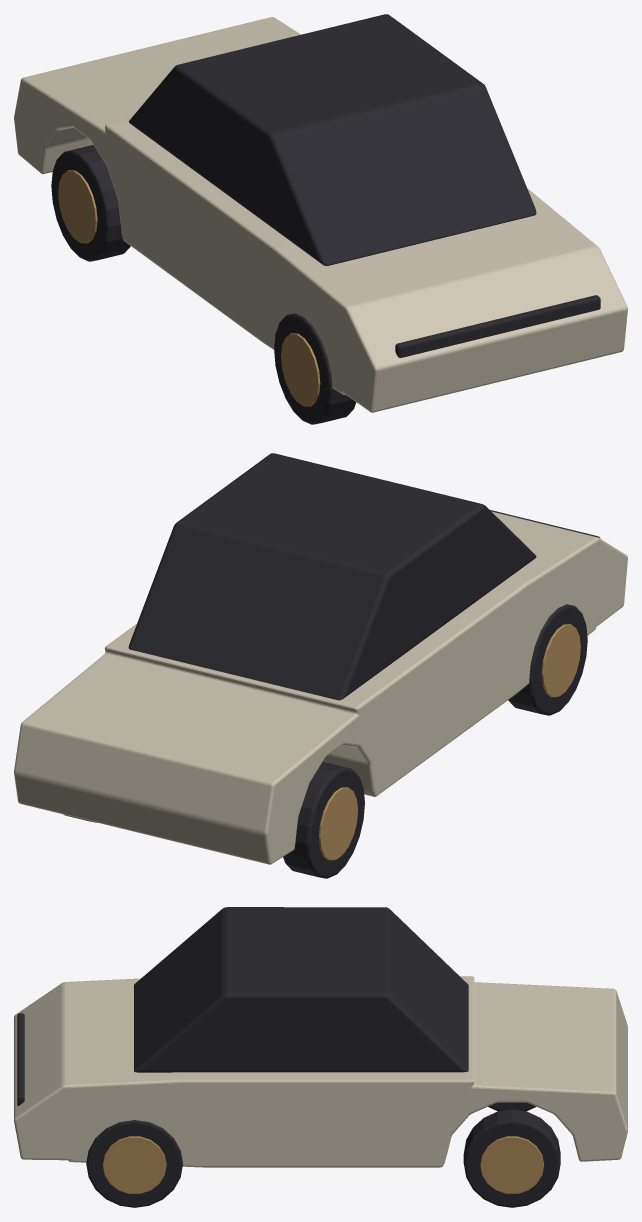
Rendered from car-suv.glb.
3 renders of one model, top to bottom at view 1: azimuth 30°, elevation 25°; view 2: azimuth 150°, elevation 25°; view 3: azimuth 270°, elevation 25°, orthographic. The views are drawn at different scales.
Visible parts, largest first — view 1: suv_body, suv_glass, suv_wheel_f_-1, suv_wheel_r_-1, suv_tail, suv_wheel_r_-1_rim_-1, suv_wheel_f_-1_rim_-1; view 2: suv_body, suv_glass, suv_wheel_f_-1, suv_wheel_r_-1, suv_wheel_r_-1_rim_-1, suv_wheel_f_-1_rim_-1; view 3: suv_body, suv_glass, suv_wheel_f_1, suv_wheel_r_1, suv_wheel_r_1_rim_1, suv_wheel_f_1_rim_1, suv_tail.
Part boxes in pixels (x1,y1,x2,y2): suv_body: (14,17,627,412); suv_glass: (129,14,536,265); suv_wheel_f_-1: (51,145,130,261); suv_wheel_r_-1: (274,313,356,424); suv_tail: (395,295,600,357); suv_wheel_r_-1_rim_-1: (281,333,320,406); suv_wheel_f_-1_rim_-1: (58,170,97,243); suv_body: (14,511,627,864); suv_glass: (128,453,536,700); suv_wheel_f_-1: (283,762,364,878); suv_wheel_r_-1: (508,604,587,715); suv_wheel_r_-1_rim_-1: (541,624,580,697); suv_wheel_f_-1_rim_-1: (318,787,357,860); suv_body: (14,976,627,1167); suv_glass: (134,907,468,1072); suv_wheel_f_1: (463,1109,560,1207); suv_wheel_r_1: (86,1120,182,1207); suv_wheel_r_1_rim_1: (102,1136,166,1193); suv_wheel_f_1_rim_1: (480,1136,544,1193); suv_tail: (17,1013,24,1105).
Size of the model in its own units: 2.07 by 1.82 by 4.94.
